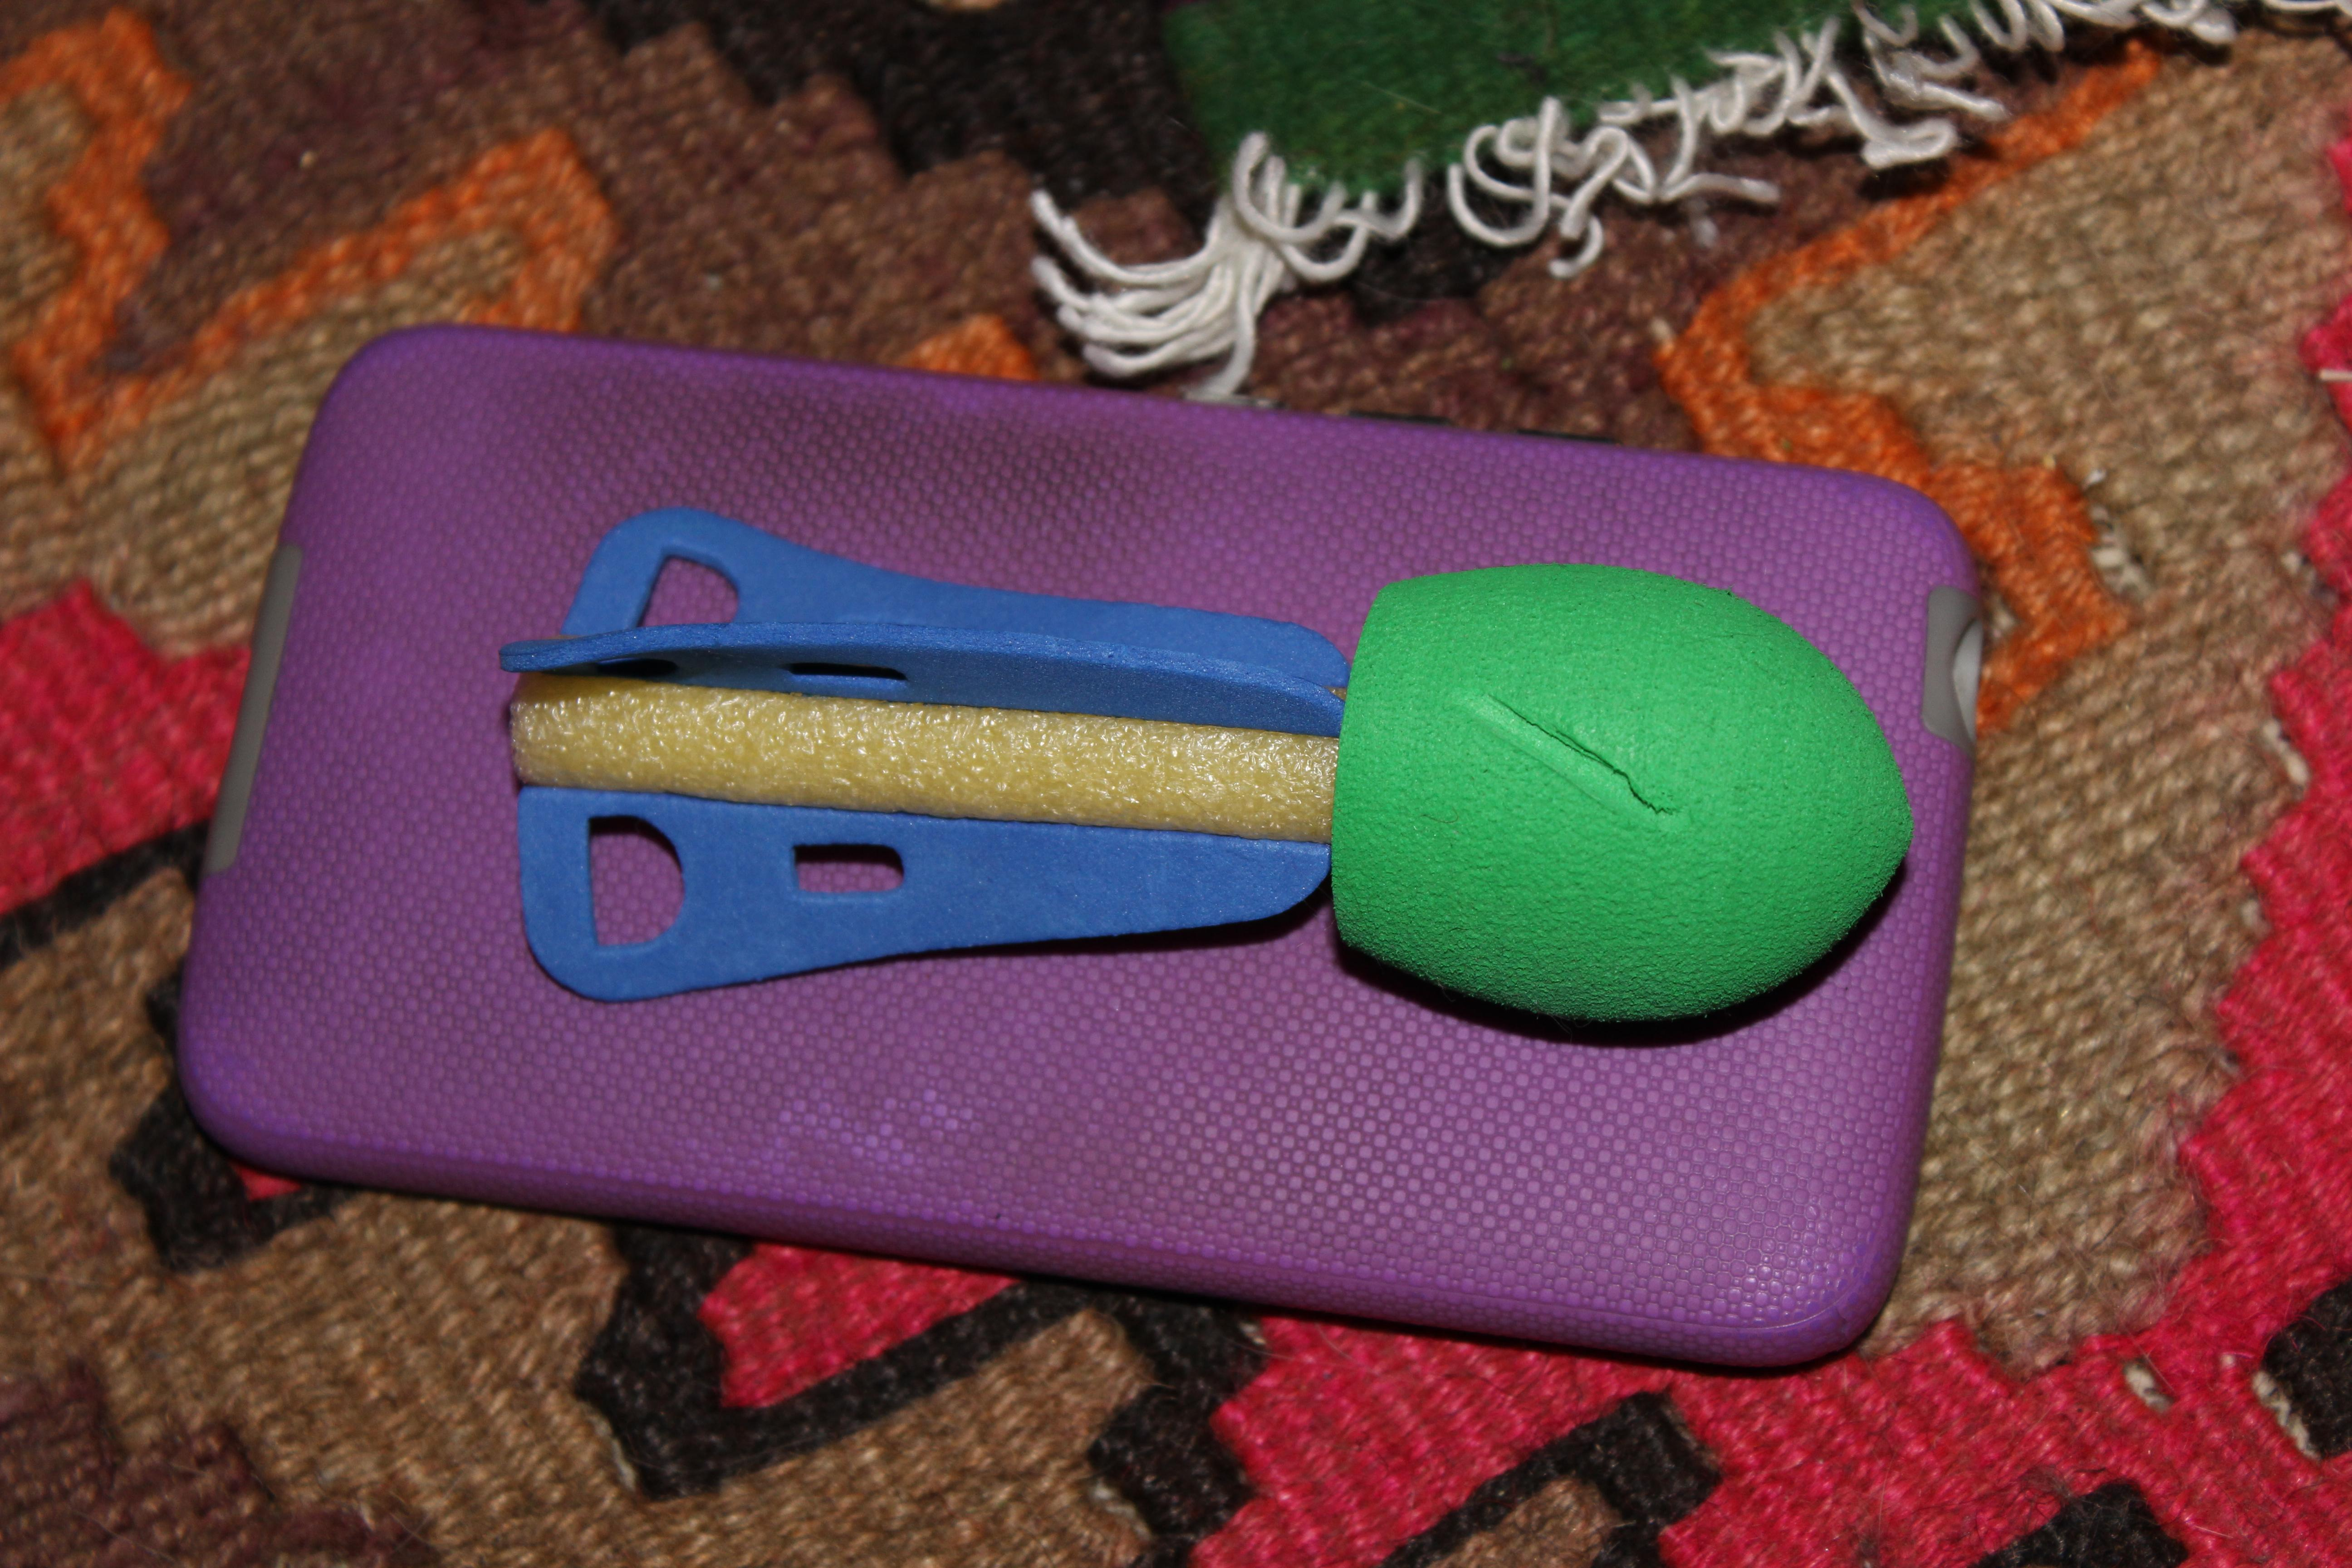foamDart: (448, 446, 1974, 1109)
